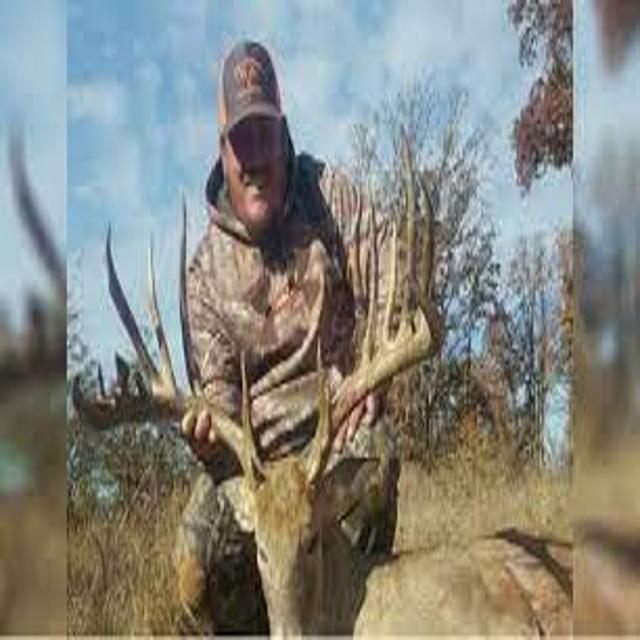poacher: (91, 24, 501, 635)
